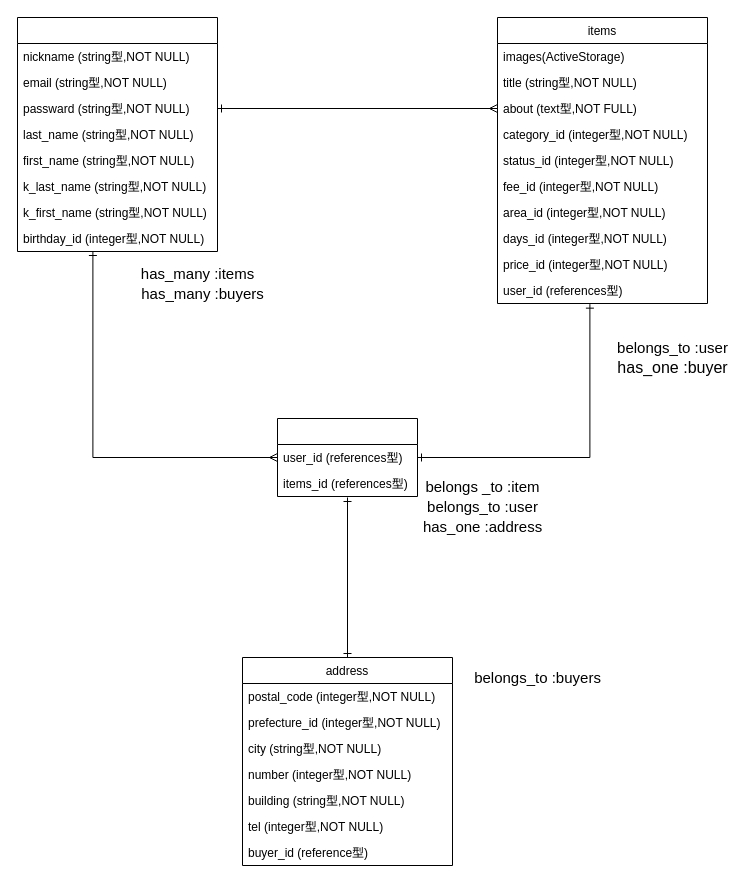
This 755x886 diagram has some shape labels left out. Each missing label, with the box of its shape:
buyers: (276, 418, 418, 496)
users: (16, 16, 218, 252)
